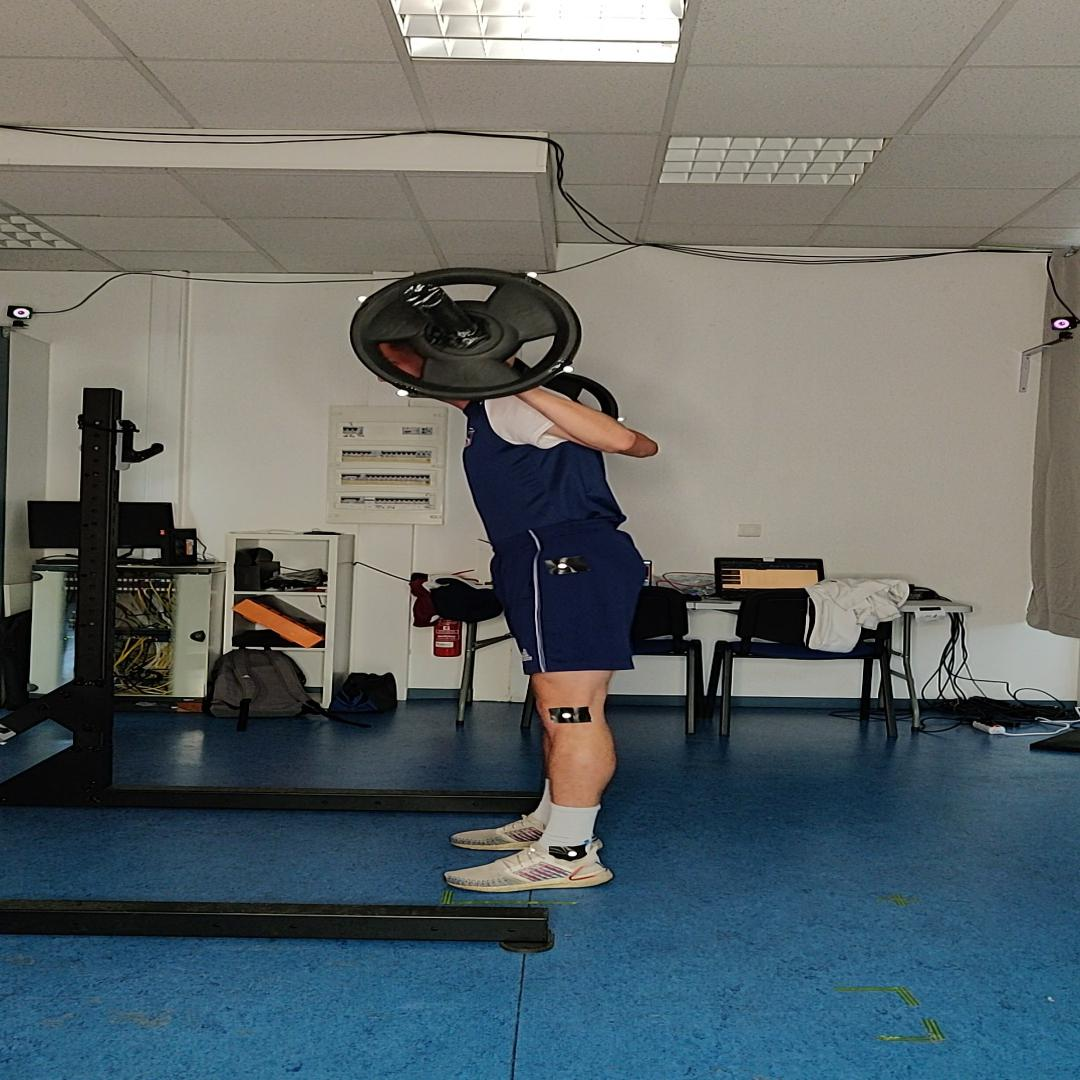Bar: (402, 283, 446, 308)
Barbell: (349, 268, 581, 400)
